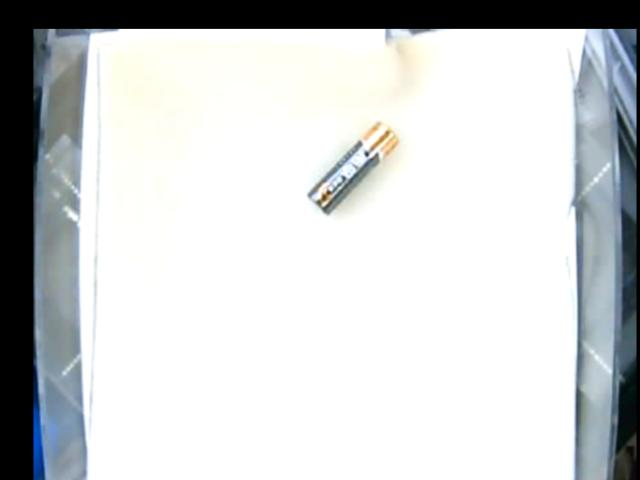Battery: (305, 120, 400, 215)
